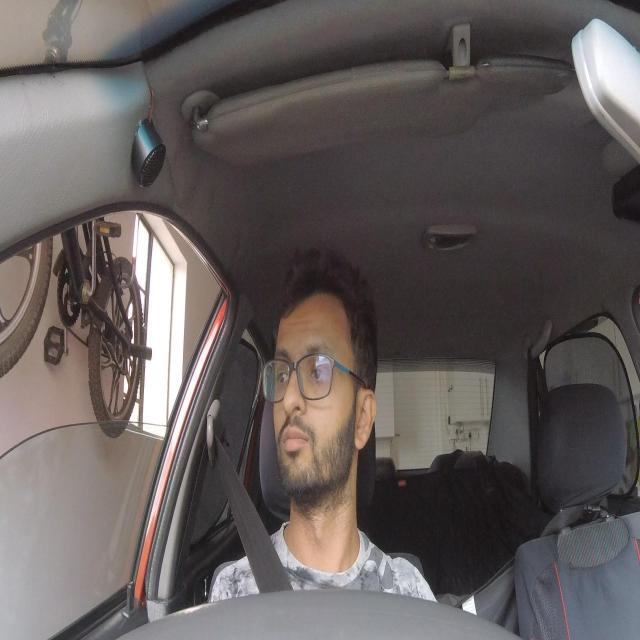open: (303, 341, 336, 395), (272, 341, 294, 396)
